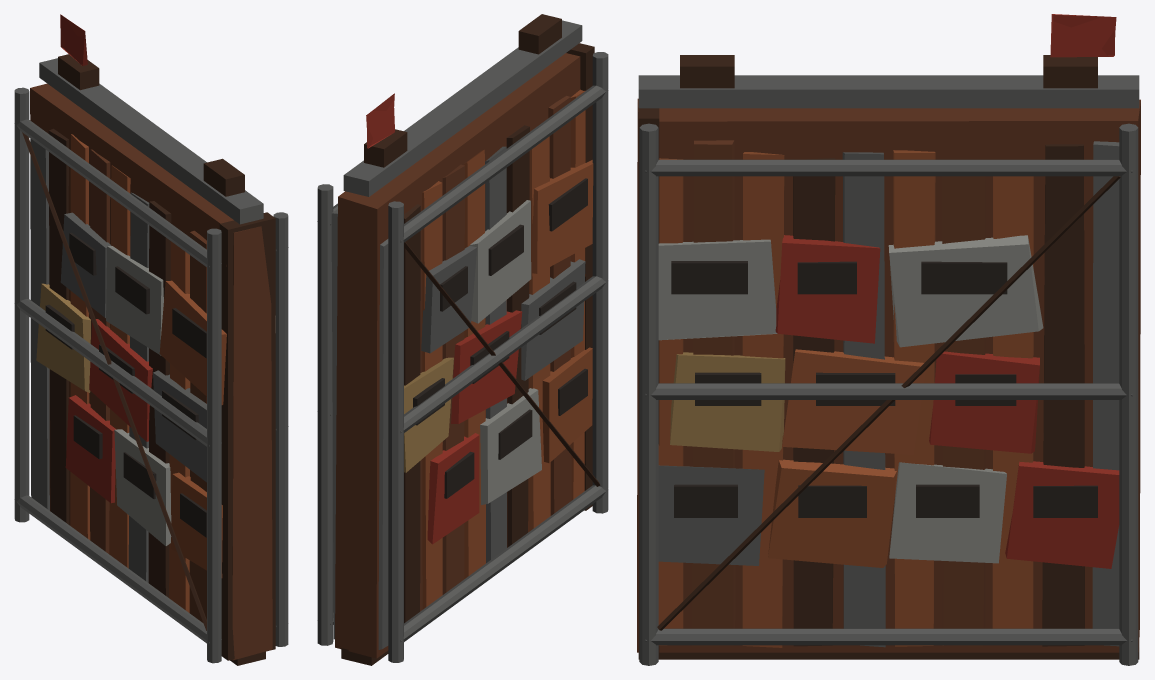
File: fort_scrap_leaf.glb
The picture shows the model from 3 angles, left to right: view 1: azimuth 30°, elevation 25°; view 2: azimuth 150°, elevation 25°; view 3: azimuth 270°, elevation 25°; orthographic projection. The views are drawn at different scales.
Parts seen in each view (by area): view 1: fort_scrap_leaf; view 2: fort_scrap_leaf; view 3: fort_scrap_leaf.
Part boxes in pixels (x1=…): fort_scrap_leaf: x1=14, y1=14, x2=288, y2=665; fort_scrap_leaf: x1=317, y1=14, x2=608, y2=665; fort_scrap_leaf: x1=637, y1=14, x2=1140, y2=665.
Bounding box in the file's own units: 1.68 × 10.24 × 7.35.
